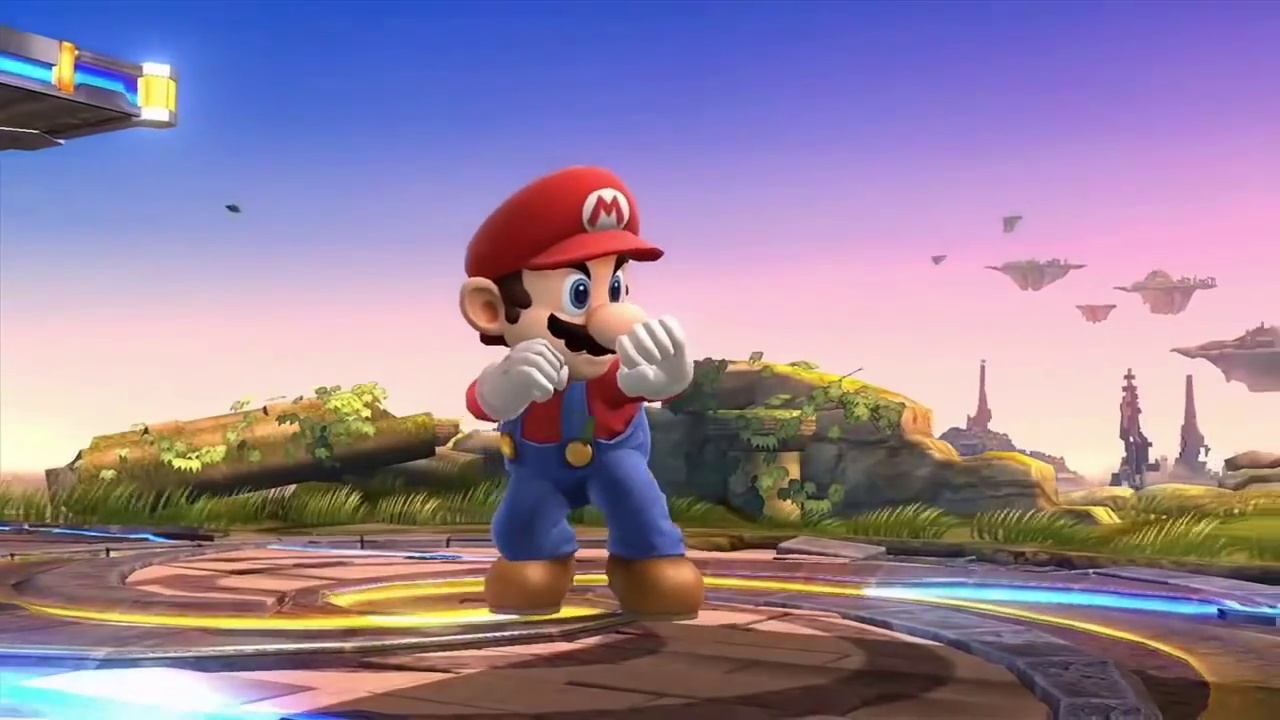Mario: (461, 164, 699, 617)
